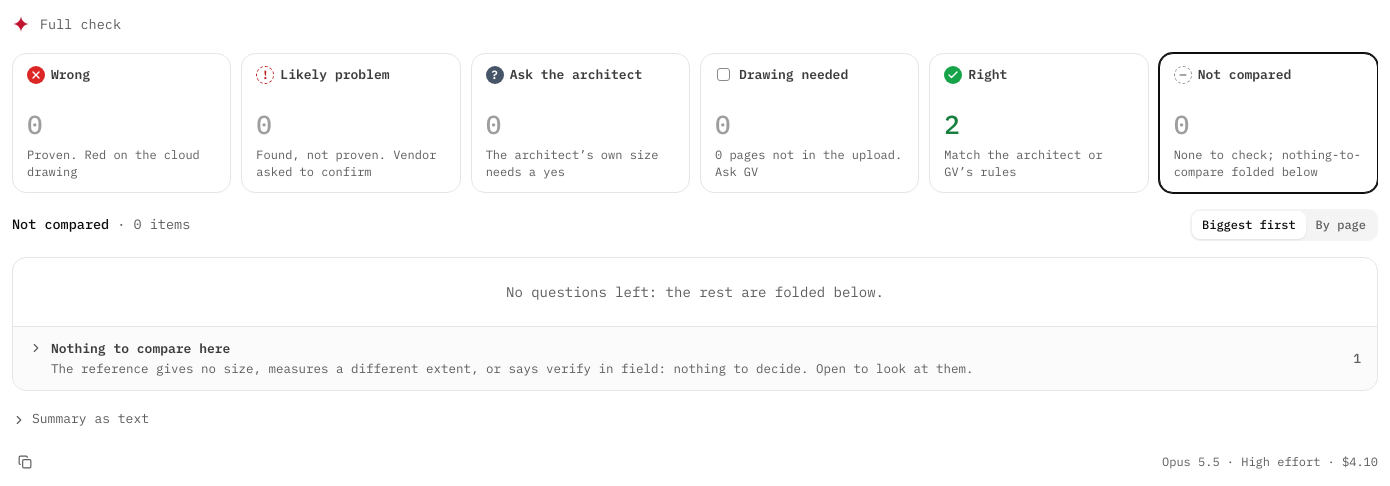
it: a full-check answer › opens on Not compared when nothing is wrong, and says so on the Wrong tab
Click the tab "Wrong 0 Proven. Red on the cloud drawing" at (122, 123), box 12,53 -> 231,193
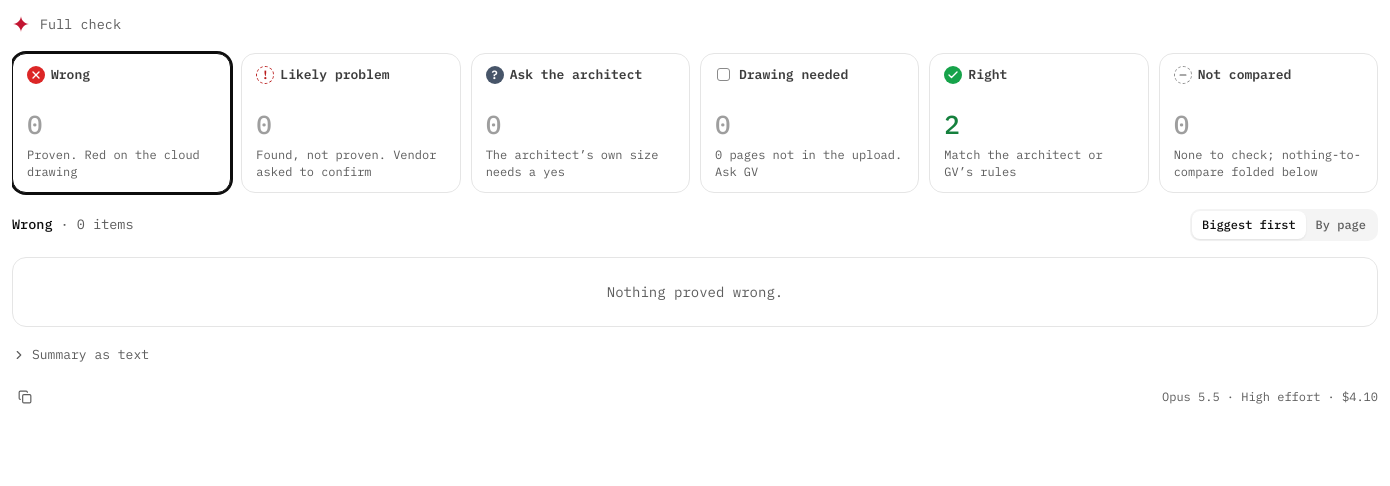
Result: the panel reads "Nothing proved wrong." at 607,283 -> 783,301
